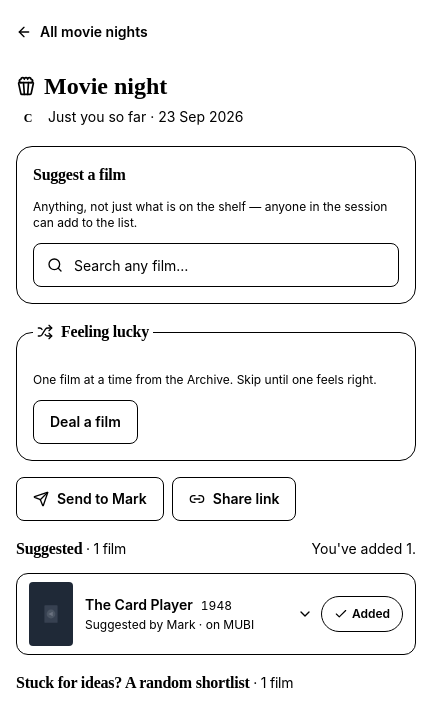
Test: MovieNightSessionPage › says in the row who else has seen a film, when, and where it streams
The width and height of the screenshot is (433, 705).
What coordinates should you click on to do the following:
click the button "The Card Player 1948 Suggested by Mark · on MUBI"
I would click on:
 (171, 614)
Its box is [29,582,313,646].
(page scrolled)
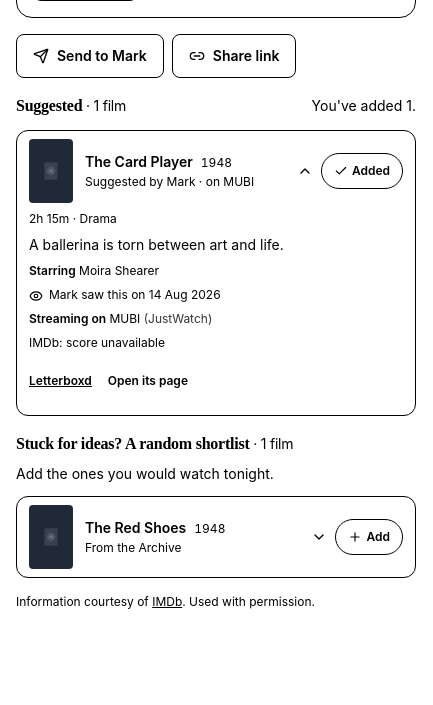
Expected: the text "Mark saw this on 14 Aug 2026" is shown, [49,287,221,303]
Expected: the text "MUBI" is shown, [110,311,140,326]
